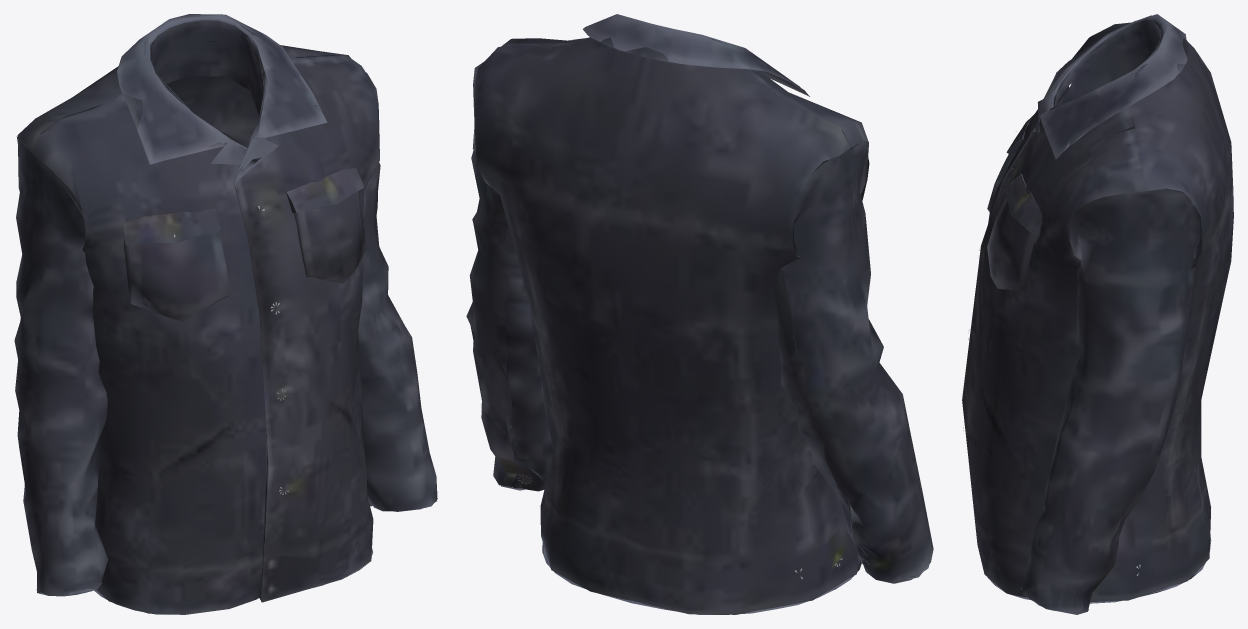
The model's file is modern_denim_jacket_lo.glb.
The picture shows the model from 3 angles, left to right: view 1: azimuth 30°, elevation 25°; view 2: azimuth 150°, elevation 25°; view 3: azimuth 270°, elevation 25°; orthographic projection. The views are drawn at different scales.
Parts seen in each view (by area): view 1: defaultMaterial; view 2: defaultMaterial; view 3: defaultMaterial.
Boxes of the visible parts, box(x1,y1,x2,y2) form: defaultMaterial: box(14, 14, 437, 614); defaultMaterial: box(466, 14, 933, 614); defaultMaterial: box(962, 14, 1233, 614).
Bounding box in the file's own units: 0.5285 × 0.661 × 0.3177.
1 material, 1 textured.
